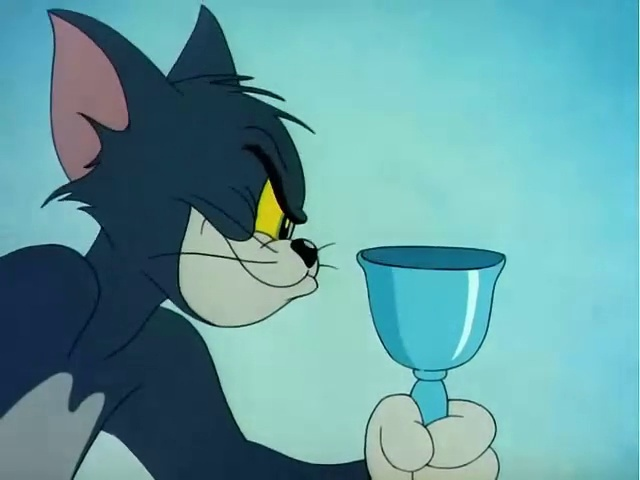tom: (2, 14, 374, 476)
